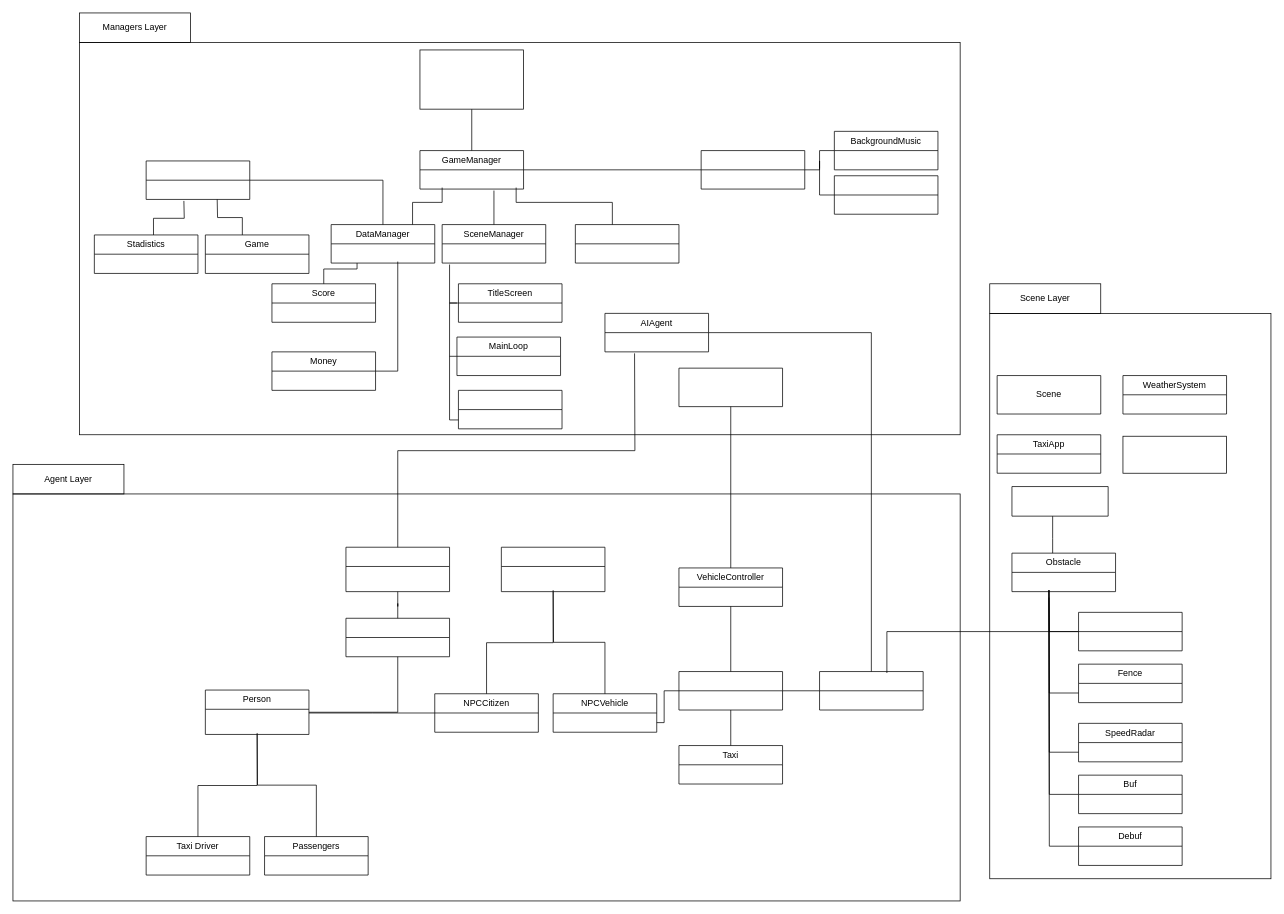
Some shapes in this 1284 by 914 pixel diagram are drawn without their labels. Here are the shapes that lost their labels. From the top down, the centre of each, then its label:
At point 471,79: "<<Interface>> UIManager + life_bar() + arrow_bar()".
At point 197,179: "Save".
At point 752,169: "SoundManager".
At point 886,194: "SoundEffects".
At point 627,243: "StateMachine".
At point 730,387: "Events".
At point 510,409: "FinalScreen".
At point 1174,454: "InteractableObjects + GasStation".
At point 1059,501: "ObstacleFactory".
At point 397,569: "AIPerson".
At point 553,569: "NPCController".
At point 397,637: "PoliceOfficer".
At point 1130,631: "PoliceCar".
At point 730,690: "Vehicle".
At point 871,690: "AIVehicle".
